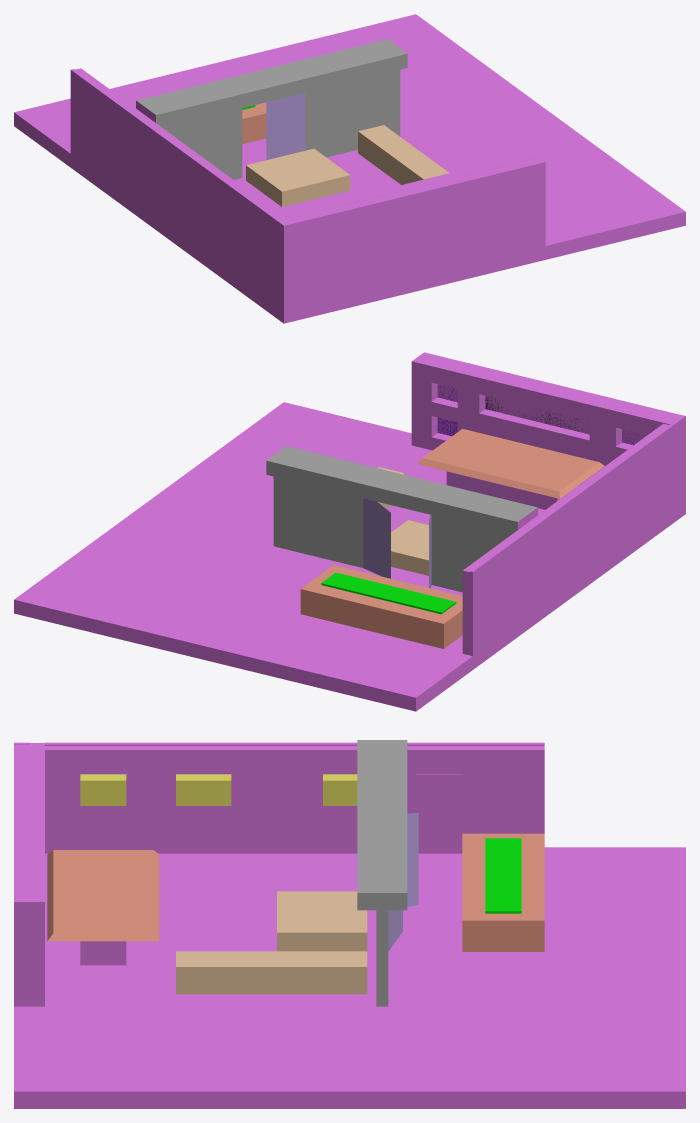
The model's file is Shop Area.fbx.
The picture shows the model from 3 angles, top to bottom: view 1: azimuth 30°, elevation 25°; view 2: azimuth 150°, elevation 25°; view 3: azimuth 270°, elevation 25°; orthographic projection. The views are drawn at different scales.
Visible parts, largest first — view 1: Cube.003; view 2: Cube.003; view 3: Cube.003.
Part boxes in pixels (x1,y1,x2,y2): Cube.003: (14,14,685,323); Cube.003: (14,352,685,711); Cube.003: (14,740,685,1108).
Size of the model in its own units: 8796 by 2335 by 10227.
